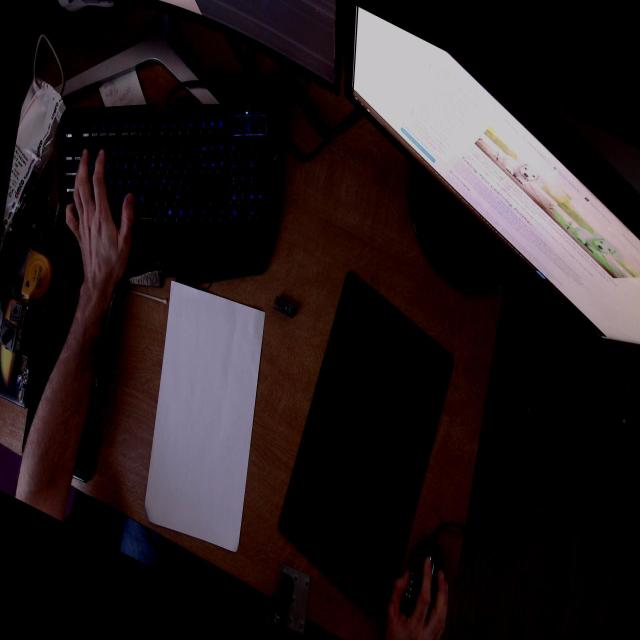keyboard-with-hands: (59, 101, 288, 283)
